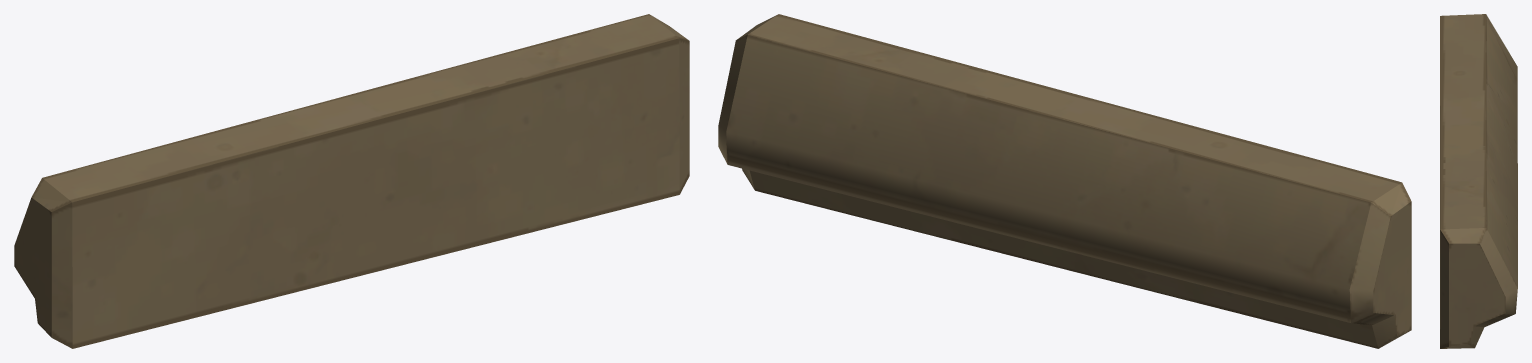
Rendered from SM_building_block_02.glb.
3 views of the same model, side by side, from view 1: azimuth 30°, elevation 25°; view 2: azimuth 150°, elevation 25°; view 3: azimuth 270°, elevation 25° (orthographic). The views are drawn at different scales.
Visible parts, largest first — view 1: SM_building_block_02; view 2: SM_building_block_02; view 3: SM_building_block_02.
Part boxes in pixels (x1=…): SM_building_block_02: x1=14, y1=14, x2=689, y2=348; SM_building_block_02: x1=718, y1=14, x2=1411, y2=348; SM_building_block_02: x1=1440, y1=14, x2=1517, y2=348.
Bounding box in the file's own units: 1.5 × 0.3702 × 0.2078.
1 material, 1 textured.
